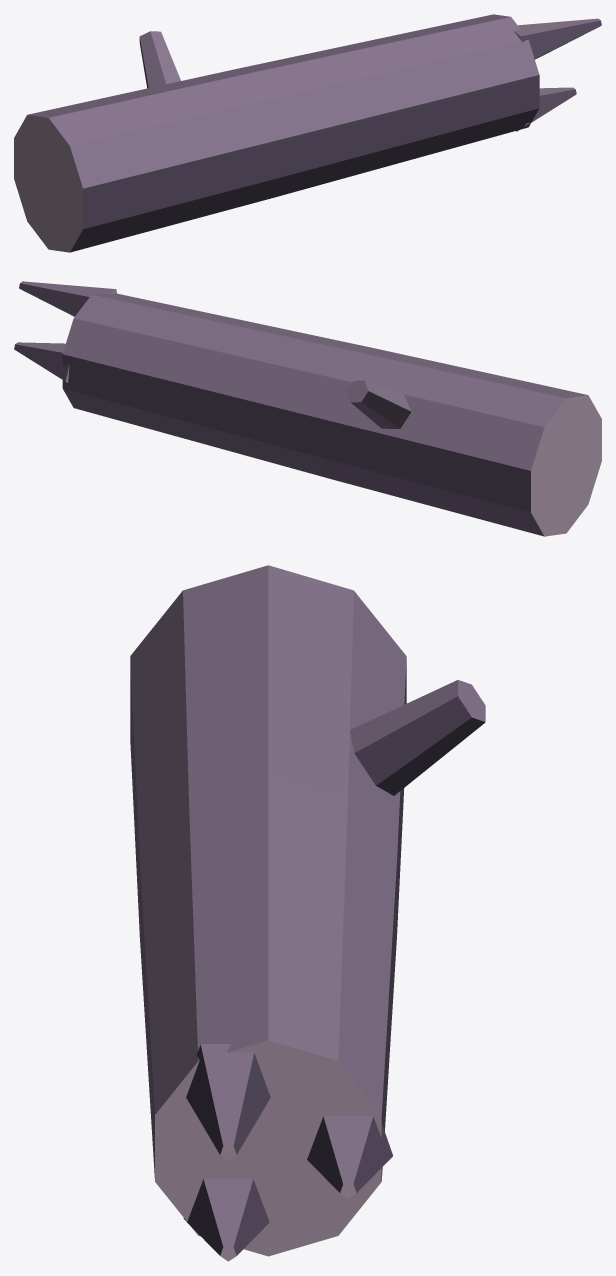
The model's file is TW_PROP_LOG_BROKEN_A_LOD0.glb.
The picture shows the model from 3 angles, top to bottom: view 1: azimuth 30°, elevation 25°; view 2: azimuth 150°, elevation 25°; view 3: azimuth 270°, elevation 25°; orthographic projection. The views are drawn at different scales.
Parts seen in each view (by area): view 1: TW_PROP_LOG_BROKEN_A_LOD0; view 2: TW_PROP_LOG_BROKEN_A_LOD0; view 3: TW_PROP_LOG_BROKEN_A_LOD0.
Part boxes in pixels (<box>): TW_PROP_LOG_BROKEN_A_LOD0: <box>14,14,601,252</box>; TW_PROP_LOG_BROKEN_A_LOD0: <box>14,281,601,536</box>; TW_PROP_LOG_BROKEN_A_LOD0: <box>130,565,485,1261</box>.
Size of the model in its own units: 1.72 by 0.4473 by 0.4894.
1 material, 1 textured.
